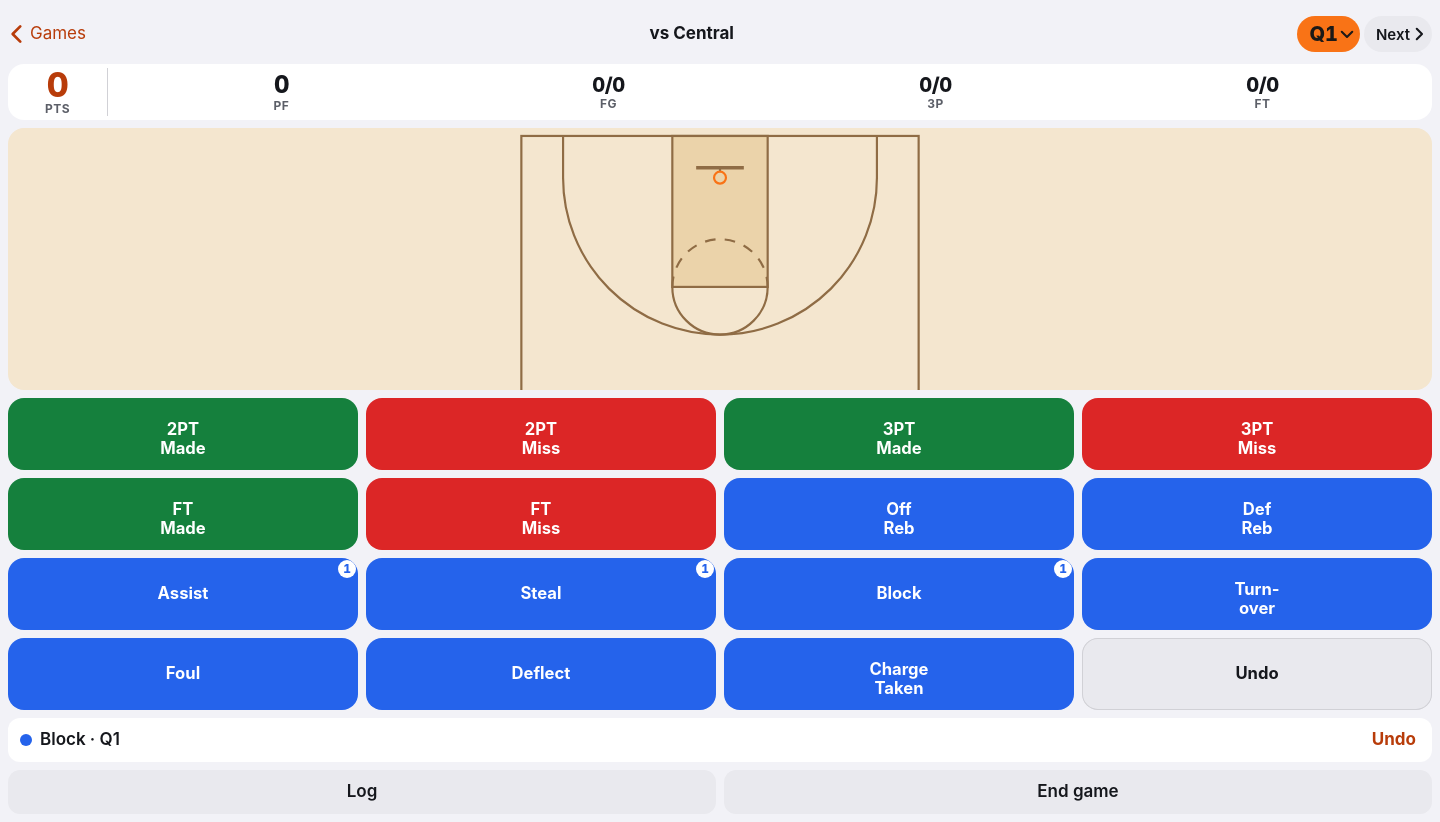
it: TrackGameScreen › a double tap on the grid's Undo removes one stat
Expected: the element named "Record a stat" is shown, x1=8 y1=398 x2=1432 y2=710
Click the button with aria-label "Undo last stat" at (1257, 674), box x1=1082 y1=638 x2=1432 y2=710
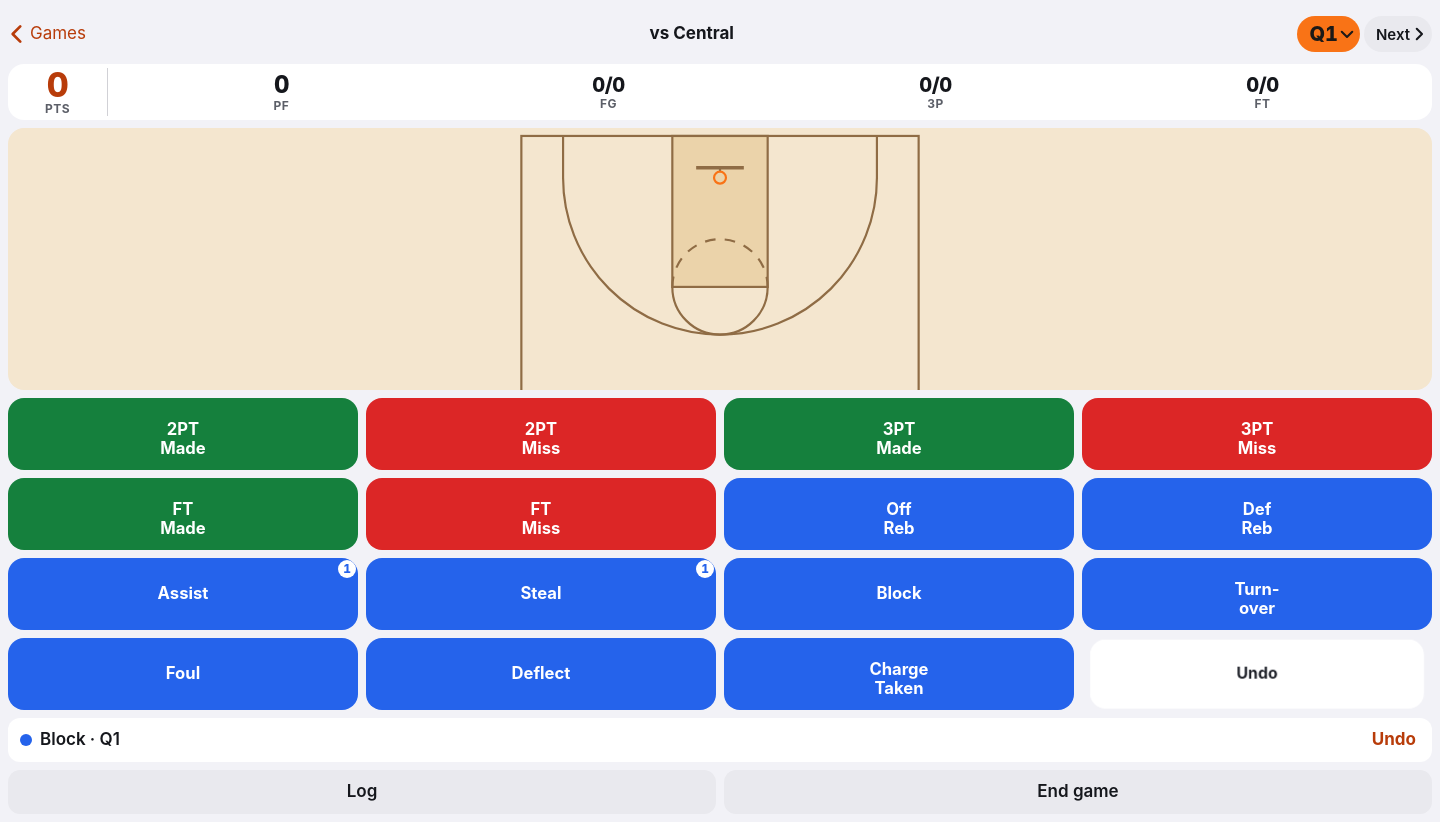
Click the button with aria-label "Undo last stat" at (1257, 674), box x1=1087 y1=639 x2=1427 y2=709
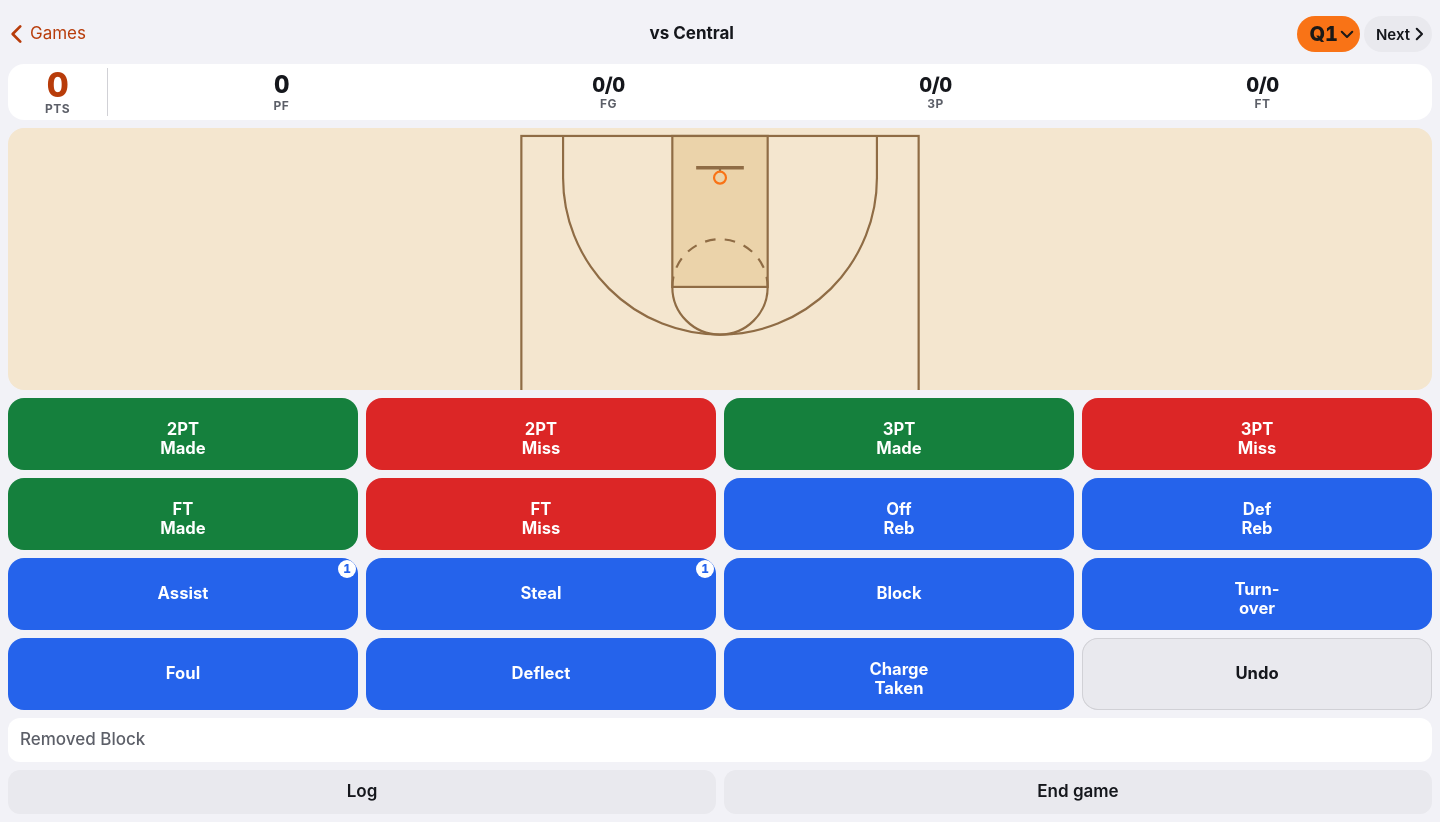
Expected: the message named "Last action" reads "Removed Block", x1=20 y1=729 x2=145 y2=749
Click the button with aria-label "Undo last stat" at (1257, 674), box x1=1082 y1=638 x2=1432 y2=710
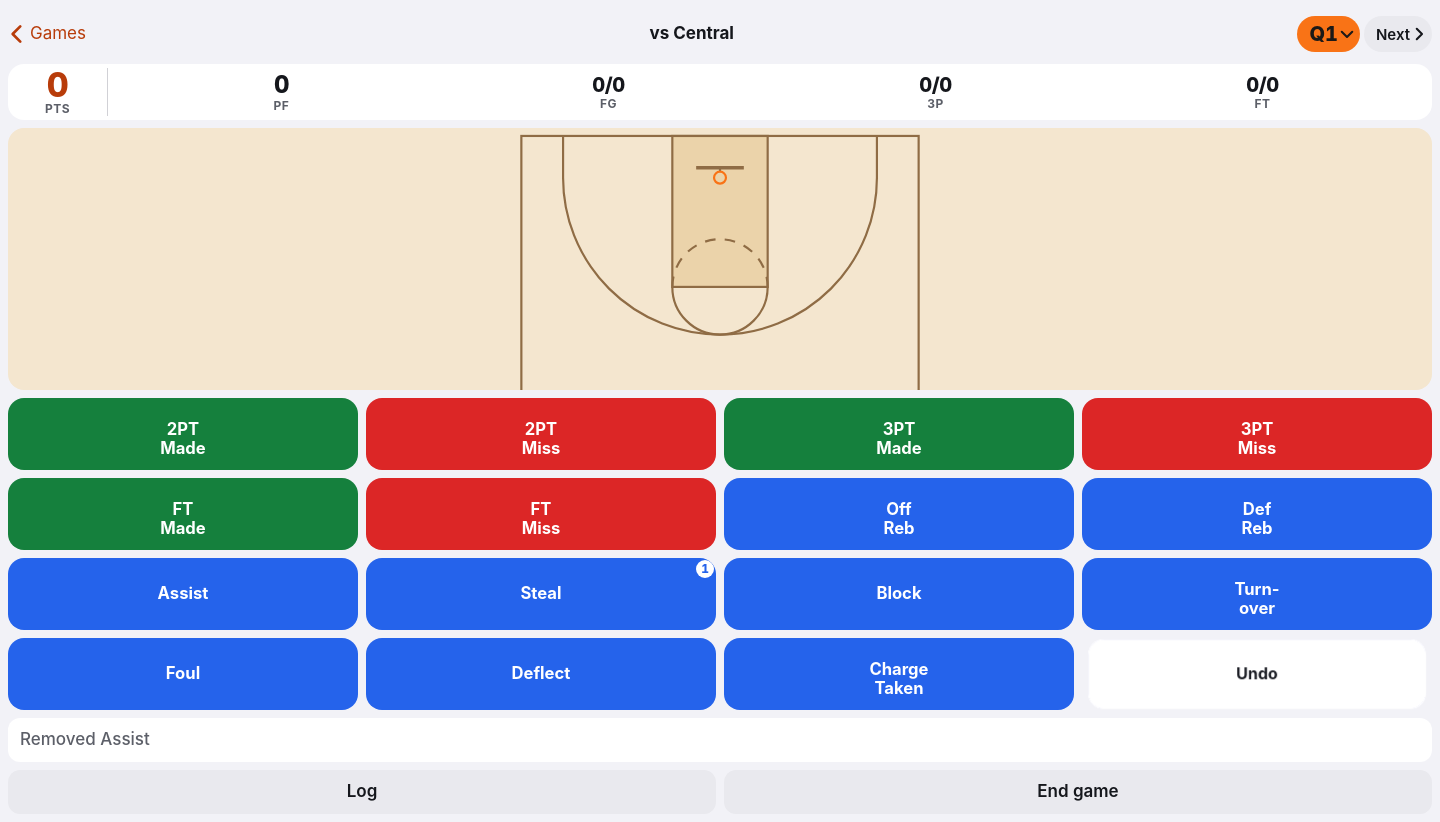
Expected: the message named "Last action" reads "Removed Assist", x1=20 y1=729 x2=150 y2=749
